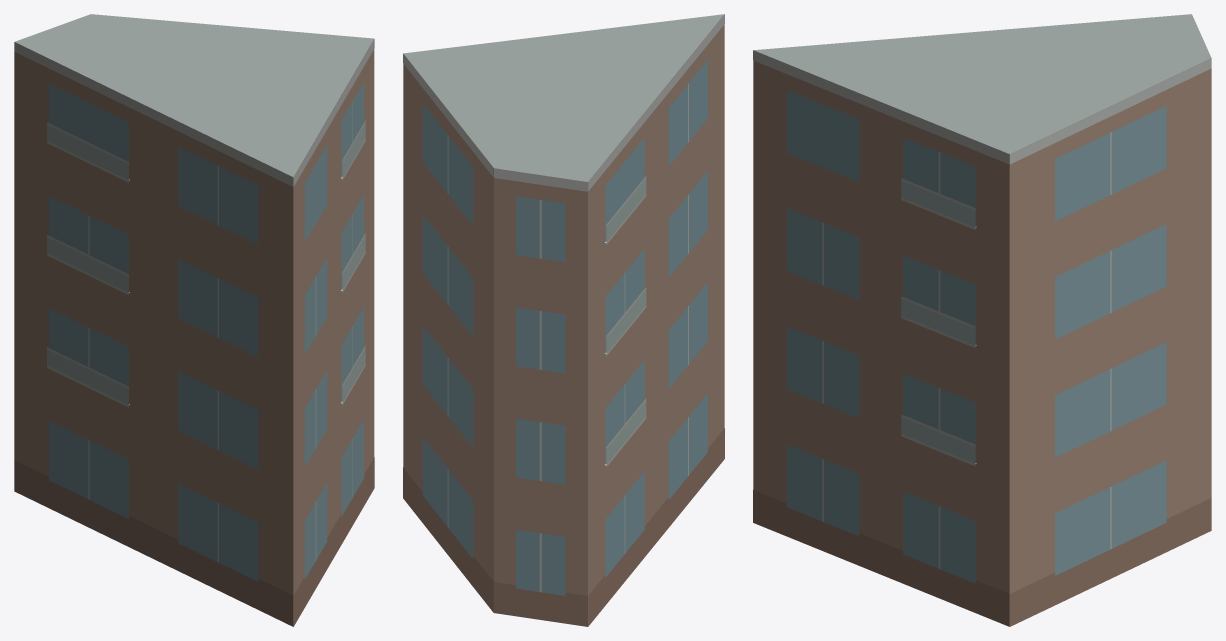
File: survey-upis-32518735.glb
3 views of the same model, side by side, from view 1: azimuth 30°, elevation 25°; view 2: azimuth 150°, elevation 25°; view 3: azimuth 270°, elevation 25° (orthographic). The views are drawn at different scales.
Visible parts, largest first — view 1: survey-upis-32518735.tmp; view 2: survey-upis-32518735.tmp; view 3: survey-upis-32518735.tmp.
Boxes of the visible parts, x1,y1,x2,y2 form: survey-upis-32518735.tmp: (14, 14, 374, 626); survey-upis-32518735.tmp: (403, 14, 724, 626); survey-upis-32518735.tmp: (753, 14, 1211, 626).
Size of the model in its own units: 7.14 by 11.2 by 9.85.
